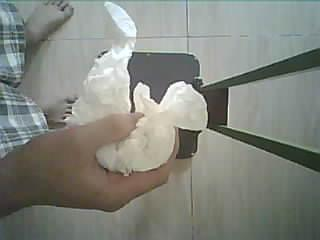paper: (97, 81, 208, 175), (68, 2, 136, 125)
